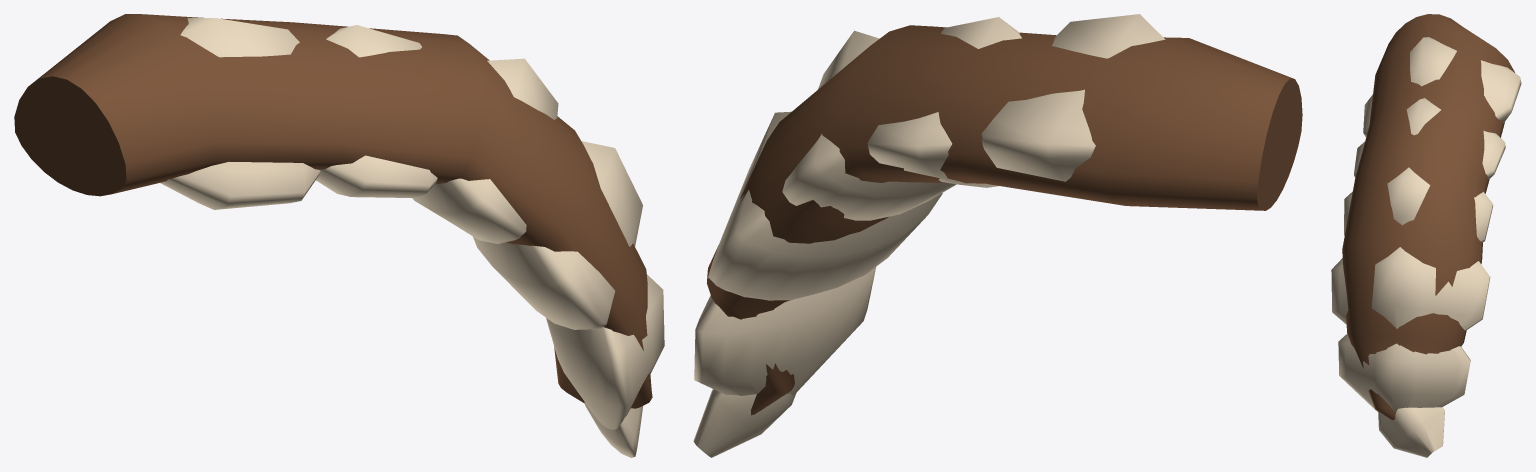
The model's file is siege_leg.glb.
The picture shows the model from 3 angles, left to right: view 1: azimuth 30°, elevation 25°; view 2: azimuth 150°, elevation 25°; view 3: azimuth 270°, elevation 25°; orthographic projection. The views are drawn at different scales.
Parts seen in each view (by area): view 1: siege_leg; view 2: siege_leg; view 3: siege_leg.
Boxes of the visible parts, left/top/right/bottom form: siege_leg: left=14, top=14, right=664, bottom=457; siege_leg: left=693, top=14, right=1302, bottom=457; siege_leg: left=1331, top=14, right=1521, bottom=457.
Bounding box in the file's own units: 0.7568 × 0.6542 × 0.3704.
